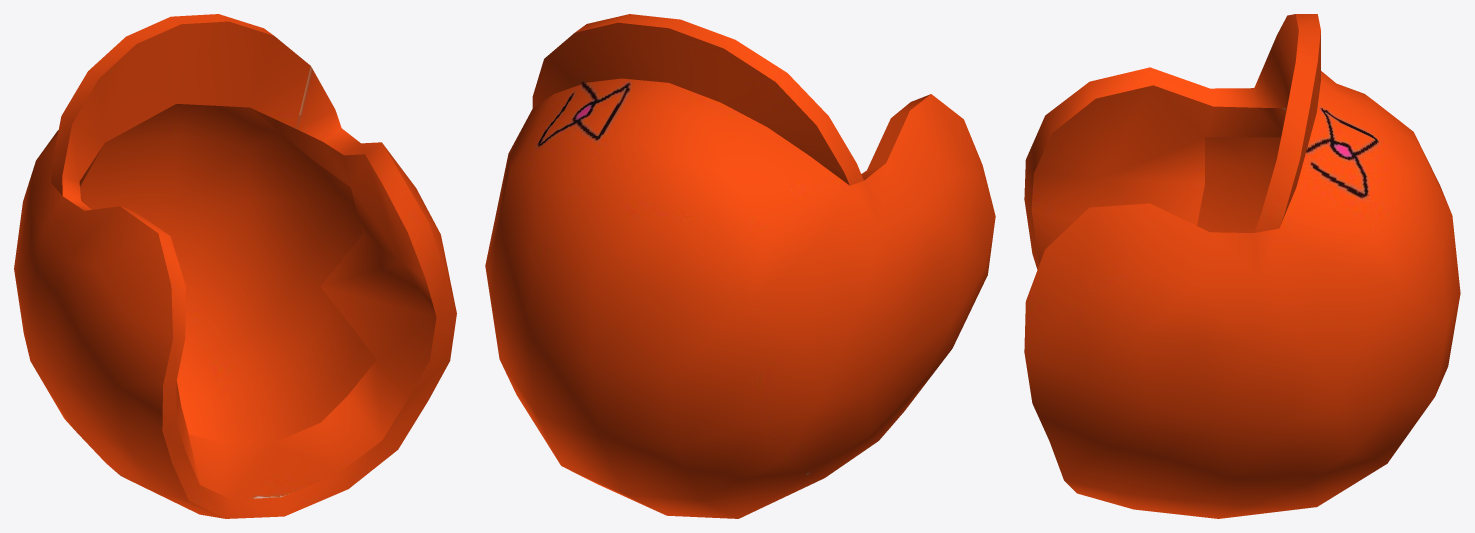
The model's file is MiiRaceHelmet01.fbx.
3 views of the same model, side by side, from view 1: azimuth 30°, elevation 25°; view 2: azimuth 150°, elevation 25°; view 3: azimuth 270°, elevation 25° (orthographic). The views are drawn at different scales.
Visible parts, largest first — view 1: Helmet__mt_Helmet.001; view 2: Helmet__mt_Helmet.001; view 3: Helmet__mt_Helmet.001.
Boxes of the visible parts, box(x1,y1,x2,y2) form: Helmet__mt_Helmet.001: box(14, 14, 456, 518); Helmet__mt_Helmet.001: box(485, 14, 995, 518); Helmet__mt_Helmet.001: box(1024, 14, 1460, 518).
Size of the model in its own units: 1.12 by 1.35 by 1.14.
